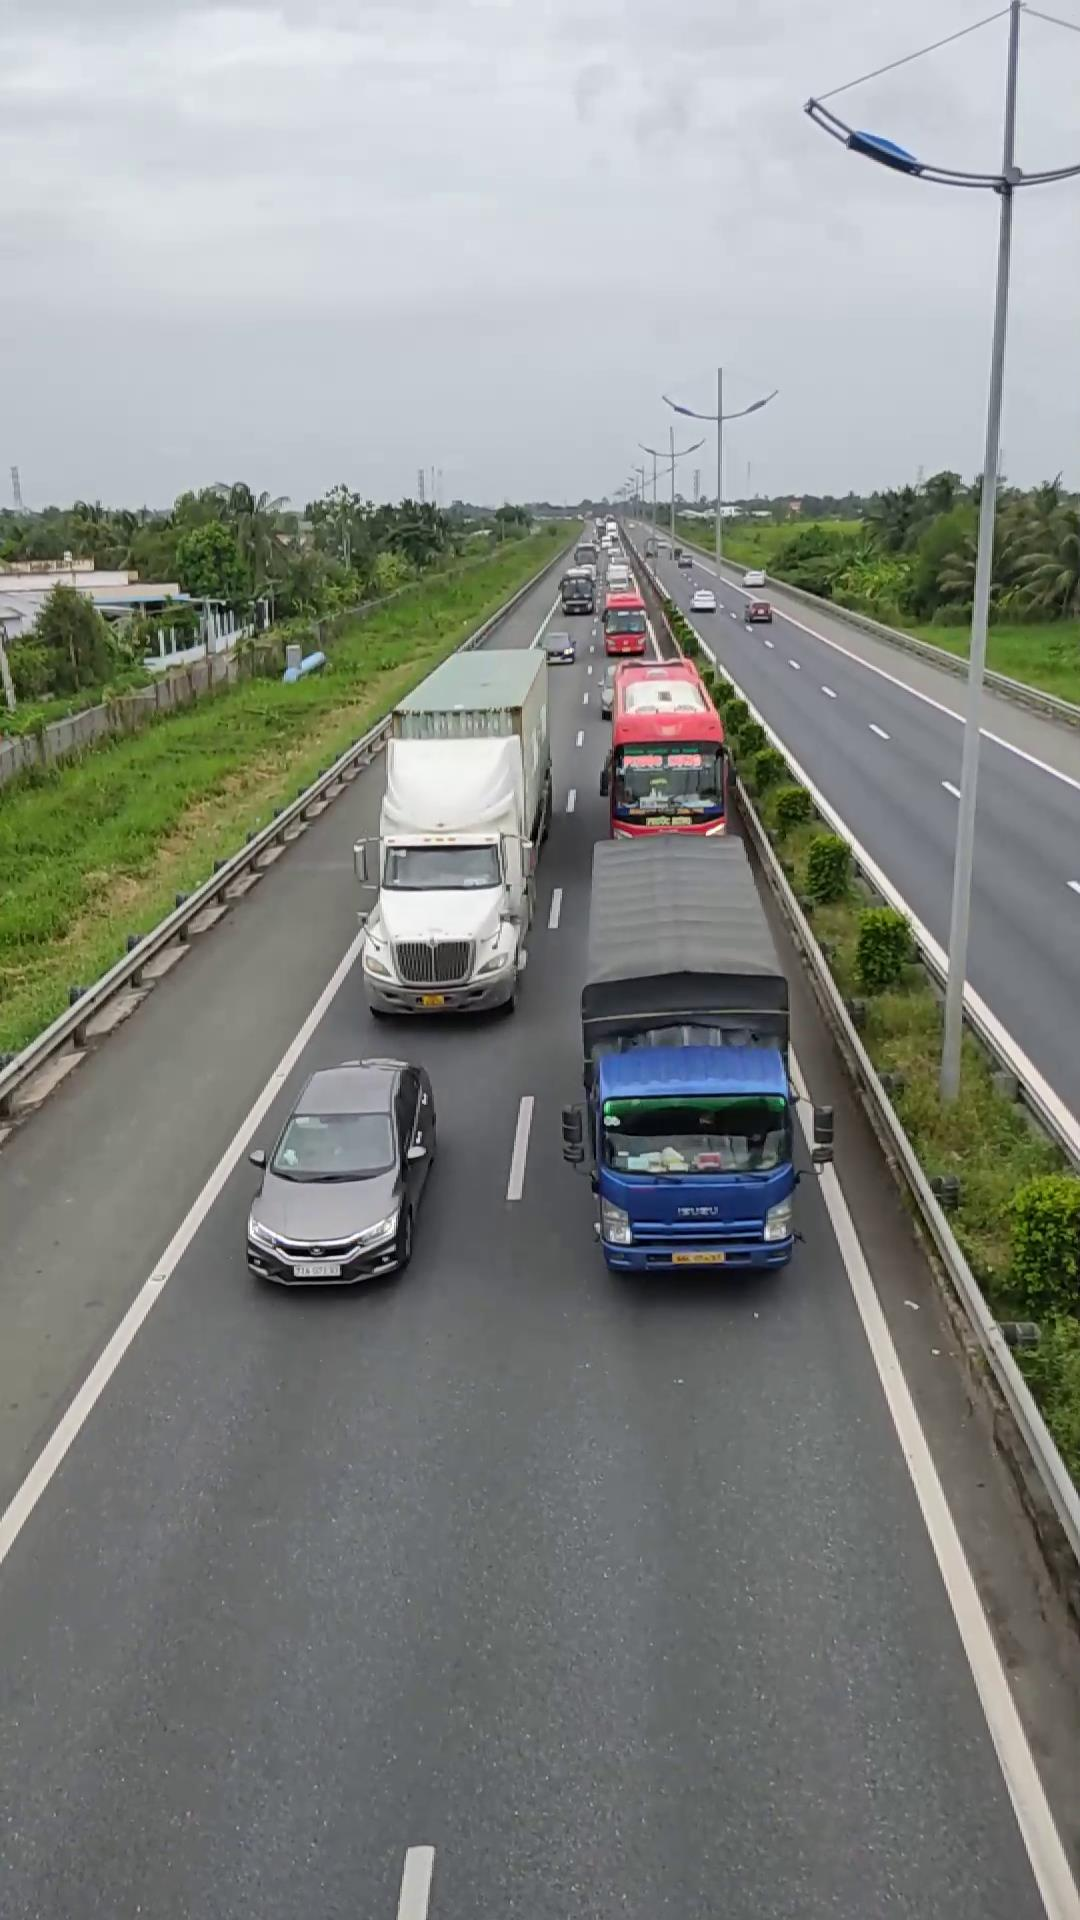car: (244, 1058, 441, 1286)
container: (357, 640, 558, 1019)
truck: (563, 836, 809, 1277)
